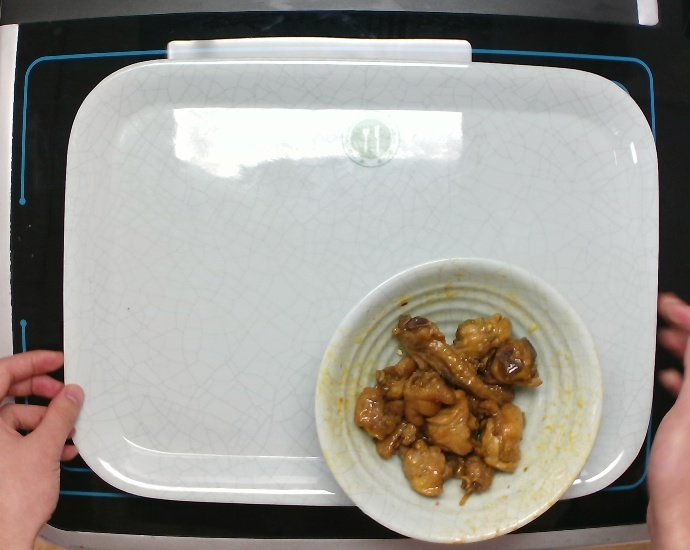JYsf-Xiao_Tang_Wan: (311, 253, 606, 548)
